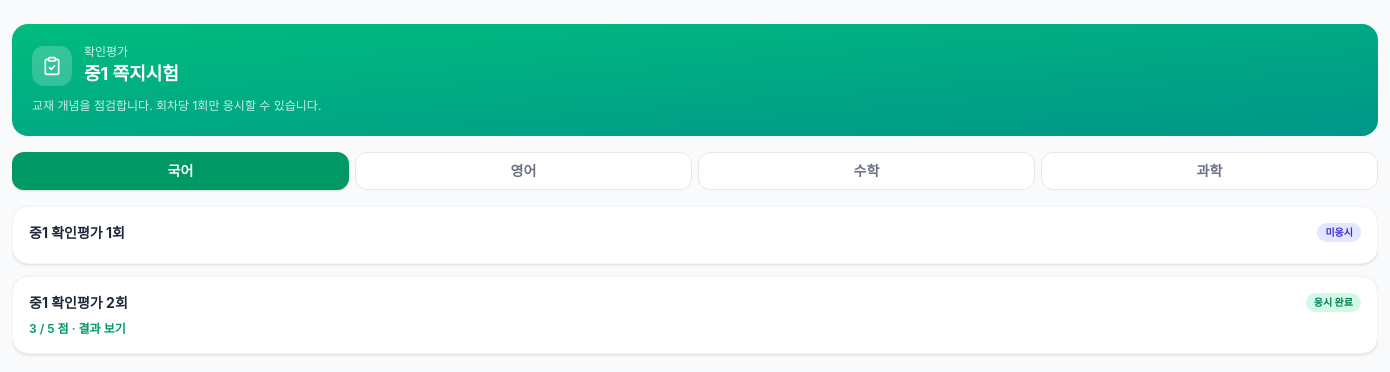
Test: QuizTab 서술형 부분점수 표시 › 채점된 서술형은 "득점: X / Y점"을 보여주고 채점 대기가 아니다
The image size is (1390, 372).
Click the text "중1 확인평가 2회".
click(78, 302)  # box [29,292,128,312]
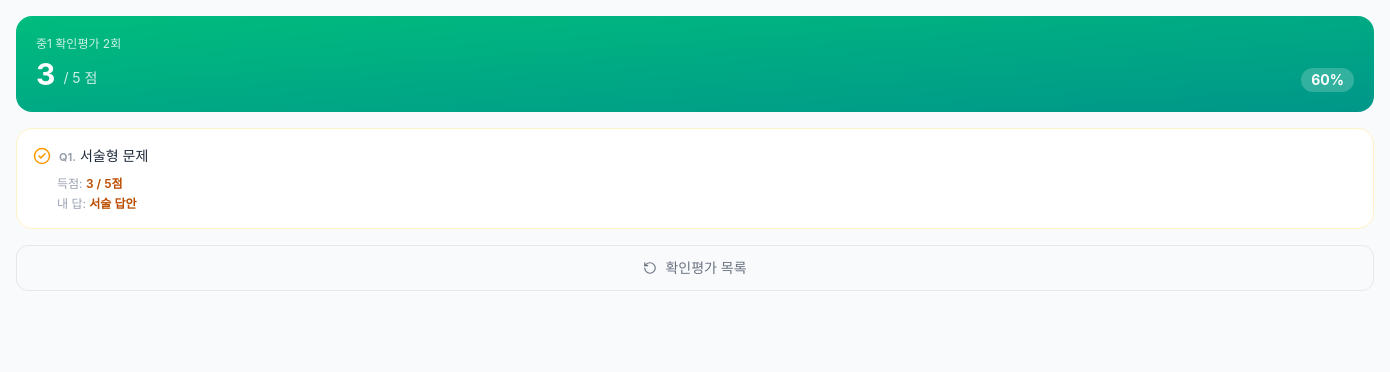
Expected: the text "3 / 5점" is shown, [86,176,122,191]
